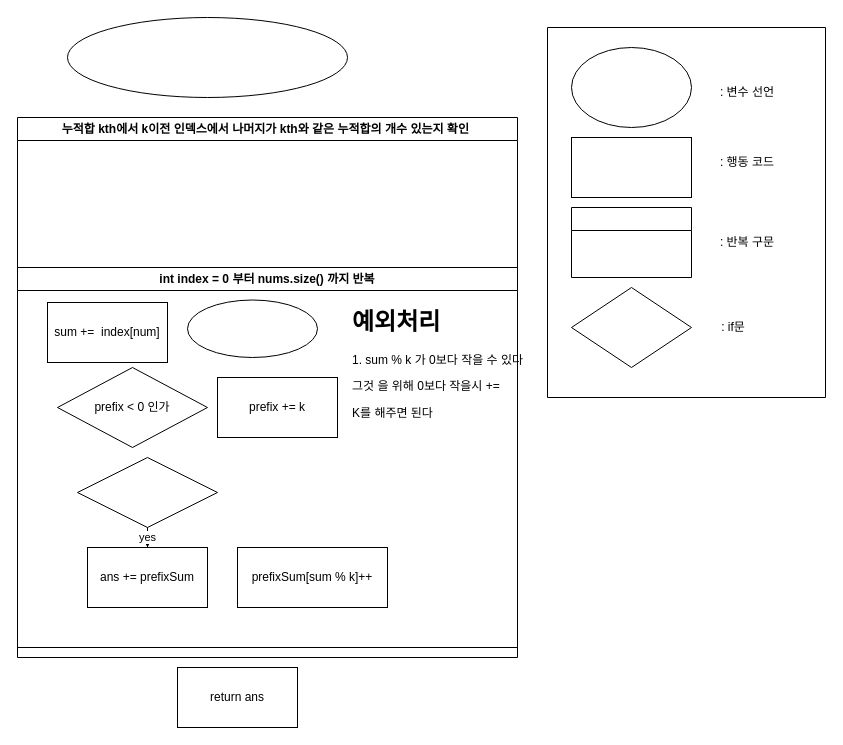
The diagram is 843 pixels wide and 745 high, and some of its shapes have lost their labels. The box of each missing label's shape, as (x1, y1, x2, y2) in pixels:
int prefix = sum % k: (186, 299, 318, 358)
prefixSum.find(sum % k) 가 있는가?: (76, 456, 218, 528)
unordered_map<int, int> prefixSum; int sum = 0; int ans = 0;: (66, 16, 348, 98)
~ 동안: (570, 206, 692, 278)
